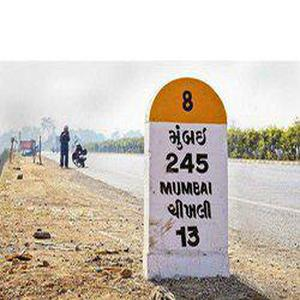kmstone: (134, 65, 239, 285)
